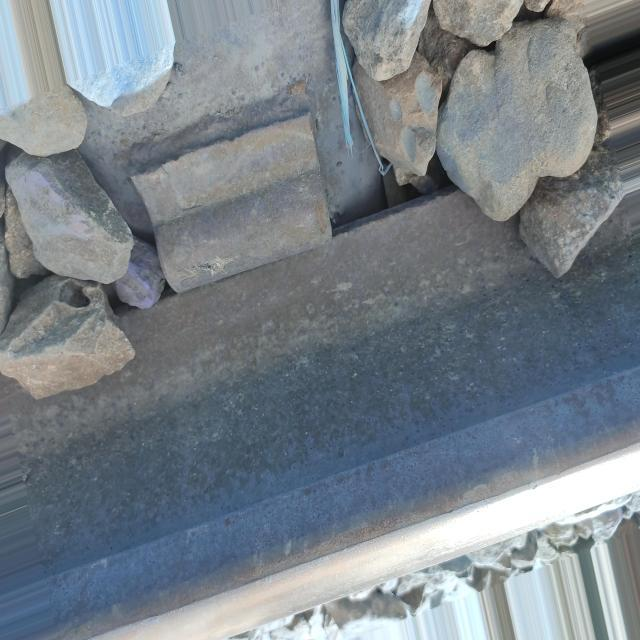Missing Fastener: (121, 94, 382, 345)
